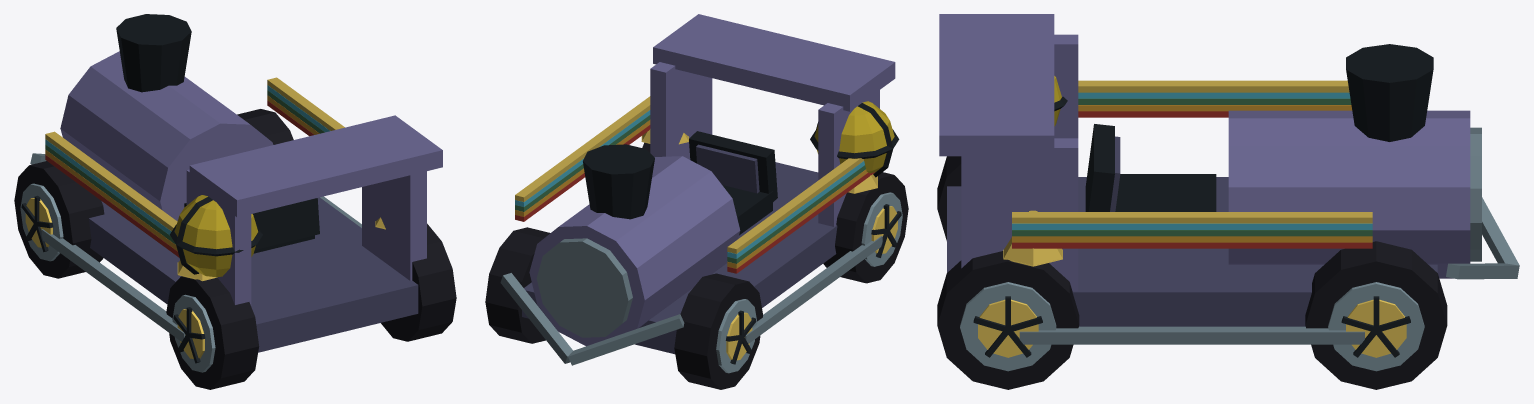
File: kart.glb
3 views of the same model, side by side, from view 1: azimuth 30°, elevation 25°; view 2: azimuth 150°, elevation 25°; view 3: azimuth 270°, elevation 25° (orthographic). The views are drawn at different scales.
Visible parts, largest first — view 1: identity-train-locomotive-boiler-and-cowcatcher, wheel-rear-left, wheel-front-left, identity-train-motif-rainbow, identity-train-motif-ball, wheel-rear-right, identity-train-driver-cockpit, wheel-front-right; view 2: identity-train-locomotive-boiler-and-cowcatcher, identity-train-motif-rainbow, wheel-front-left, wheel-rear-left, identity-train-driver-cockpit, wheel-front-right, identity-train-motif-ball, identity-train-motif-gems; view 3: identity-train-locomotive-boiler-and-cowcatcher, identity-train-motif-rainbow, wheel-front-right, wheel-rear-right, identity-train-driver-cockpit, wheel-rear-left, identity-train-motif-gems.
Boxes of the visible parts, x1=… form: identity-train-locomotive-boiler-and-cowcatcher: x1=30, y1=14, x2=442, y2=352; wheel-rear-left: x1=166, y1=276, x2=259, y2=389; wheel-front-left: x1=14, y1=161, x2=104, y2=278; identity-train-motif-rainbow: x1=45, y1=77, x2=344, y2=257; identity-train-motif-ball: x1=170, y1=195, x2=262, y2=277; wheel-rear-right: x1=381, y1=223, x2=456, y2=341; identity-train-driver-cockpit: x1=184, y1=198, x2=319, y2=253; wheel-front-right: x1=237, y1=109, x2=293, y2=144; identity-train-locomotive-boiler-and-cowcatcher: x1=500, y1=14, x2=895, y2=365; identity-train-motif-rainbow: x1=515, y1=96, x2=875, y2=273; wheel-front-left: x1=674, y1=273, x2=762, y2=389; wheel-rear-left: x1=823, y1=172, x2=908, y2=283; identity-train-driver-cockpit: x1=689, y1=131, x2=777, y2=235; wheel-front-right: x1=485, y1=227, x2=550, y2=343; identity-train-motif-ball: x1=810, y1=101, x2=899, y2=177; identity-train-motif-gems: x1=641, y1=129, x2=877, y2=193; identity-train-locomotive-boiler-and-cowcatcher: x1=939, y1=14, x2=1519, y2=344; identity-train-motif-rainbow: x1=1012, y1=80, x2=1372, y2=248; wheel-front-right: x1=1305, y1=241, x2=1447, y2=389; wheel-rear-right: x1=937, y1=251, x2=1079, y2=389; identity-train-driver-cockpit: x1=1085, y1=124, x2=1216, y2=211; wheel-rear-left: x1=937, y1=156, x2=961, y2=240; identity-train-motif-gems: x1=1003, y1=210, x2=1062, y2=266.
Size of the model in its own units: 1.87 by 1.49 by 3.04.
